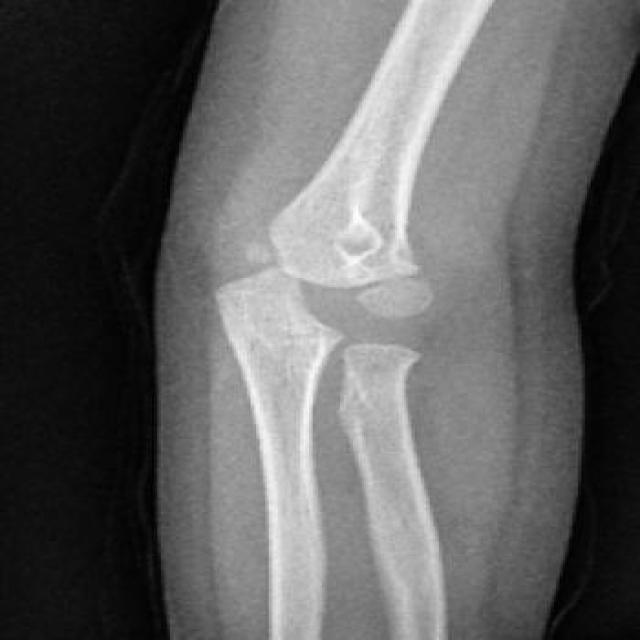Fracture: (344, 282, 452, 368)
